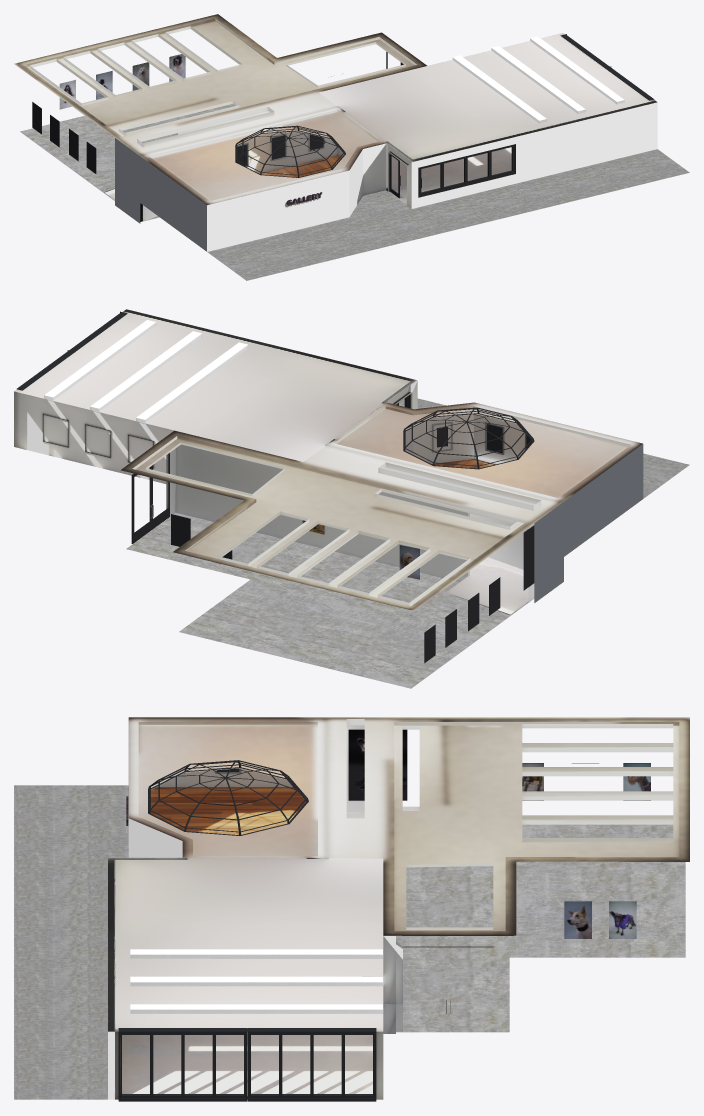
File: art-gallery9.glb
The picture shows the model from 3 angles, top to bottom: view 1: azimuth 30°, elevation 25°; view 2: azimuth 150°, elevation 25°; view 3: azimuth 270°, elevation 25°; orthographic projection. The views are drawn at different scales.
Parts seen in each view (by area): view 1: Teto.001, ParedesPrincipais, Chao_fora, Paredes, Chao_inferior, Todos os quadros, Chao_entrada, LuzesEmission, Sphere.002, Janelas_entrada, Chao_madeira; view 2: Teto.001, ParedesPrincipais, Chao_inferior, Paredes, Todos os quadros, LuzesEmission, Chao_entrada, Sphere.002, Chao_fora, Janelas_andar_inferior; view 3: Teto.001, ParedesPrincipais, Chao_inferior, Chao_fora, Chao_entrada, Chao_madeira, Paredes, Todos os quadros, LuzesEmission, Janelas, Janelas.001, Sphere.002.
Part boxes in pixels (bbox=[...]): Teto.001: bbox=[14, 14, 427, 204]; ParedesPrincipais: bbox=[319, 33, 657, 208]; Chao_fora: bbox=[207, 149, 689, 280]; Paredes: bbox=[115, 111, 411, 251]; Chao_inferior: bbox=[20, 103, 235, 221]; Todos os quadros: bbox=[32, 54, 408, 202]; Chao_entrada: bbox=[104, 147, 511, 205]; LuzesEmission: bbox=[453, 36, 624, 120]; Sphere.002: bbox=[235, 125, 345, 177]; Janelas_entrada: bbox=[418, 144, 515, 197]; Chao_madeira: bbox=[261, 155, 341, 177]; Teto.001: bbox=[120, 402, 642, 610]; ParedesPrincipais: bbox=[14, 309, 417, 483]; Chao_inferior: bbox=[126, 513, 533, 688]; Paredes: bbox=[166, 386, 643, 602]; Todos os quadros: bbox=[171, 392, 534, 663]; LuzesEmission: bbox=[44, 320, 247, 419]; Chao_entrada: bbox=[446, 557, 528, 614]; Sphere.002: bbox=[403, 407, 534, 469]; Chao_fora: bbox=[399, 398, 689, 498]; Janelas_andar_inferior: bbox=[131, 453, 169, 543]; Teto.001: bbox=[128, 717, 689, 935]; ParedesPrincipais: bbox=[108, 857, 383, 1099]; Chao_inferior: bbox=[396, 824, 685, 1032]; Chao_fora: bbox=[14, 785, 128, 1099]; Chao_entrada: bbox=[122, 1032, 372, 1099]; Chao_madeira: bbox=[150, 787, 306, 834]; Paredes: bbox=[128, 725, 402, 1033]; Todos os quadros: bbox=[126, 729, 650, 938]; LuzesEmission: bbox=[130, 949, 382, 1009]; Janelas: bbox=[247, 1028, 376, 1101]; Janelas.001: bbox=[118, 1028, 247, 1101]; Sphere.002: bbox=[148, 760, 308, 835].
Size of what is drawn, in the model's own units: 62.24 by 11.01 by 56.35.
Materials: 30 (20 with a texture image).
